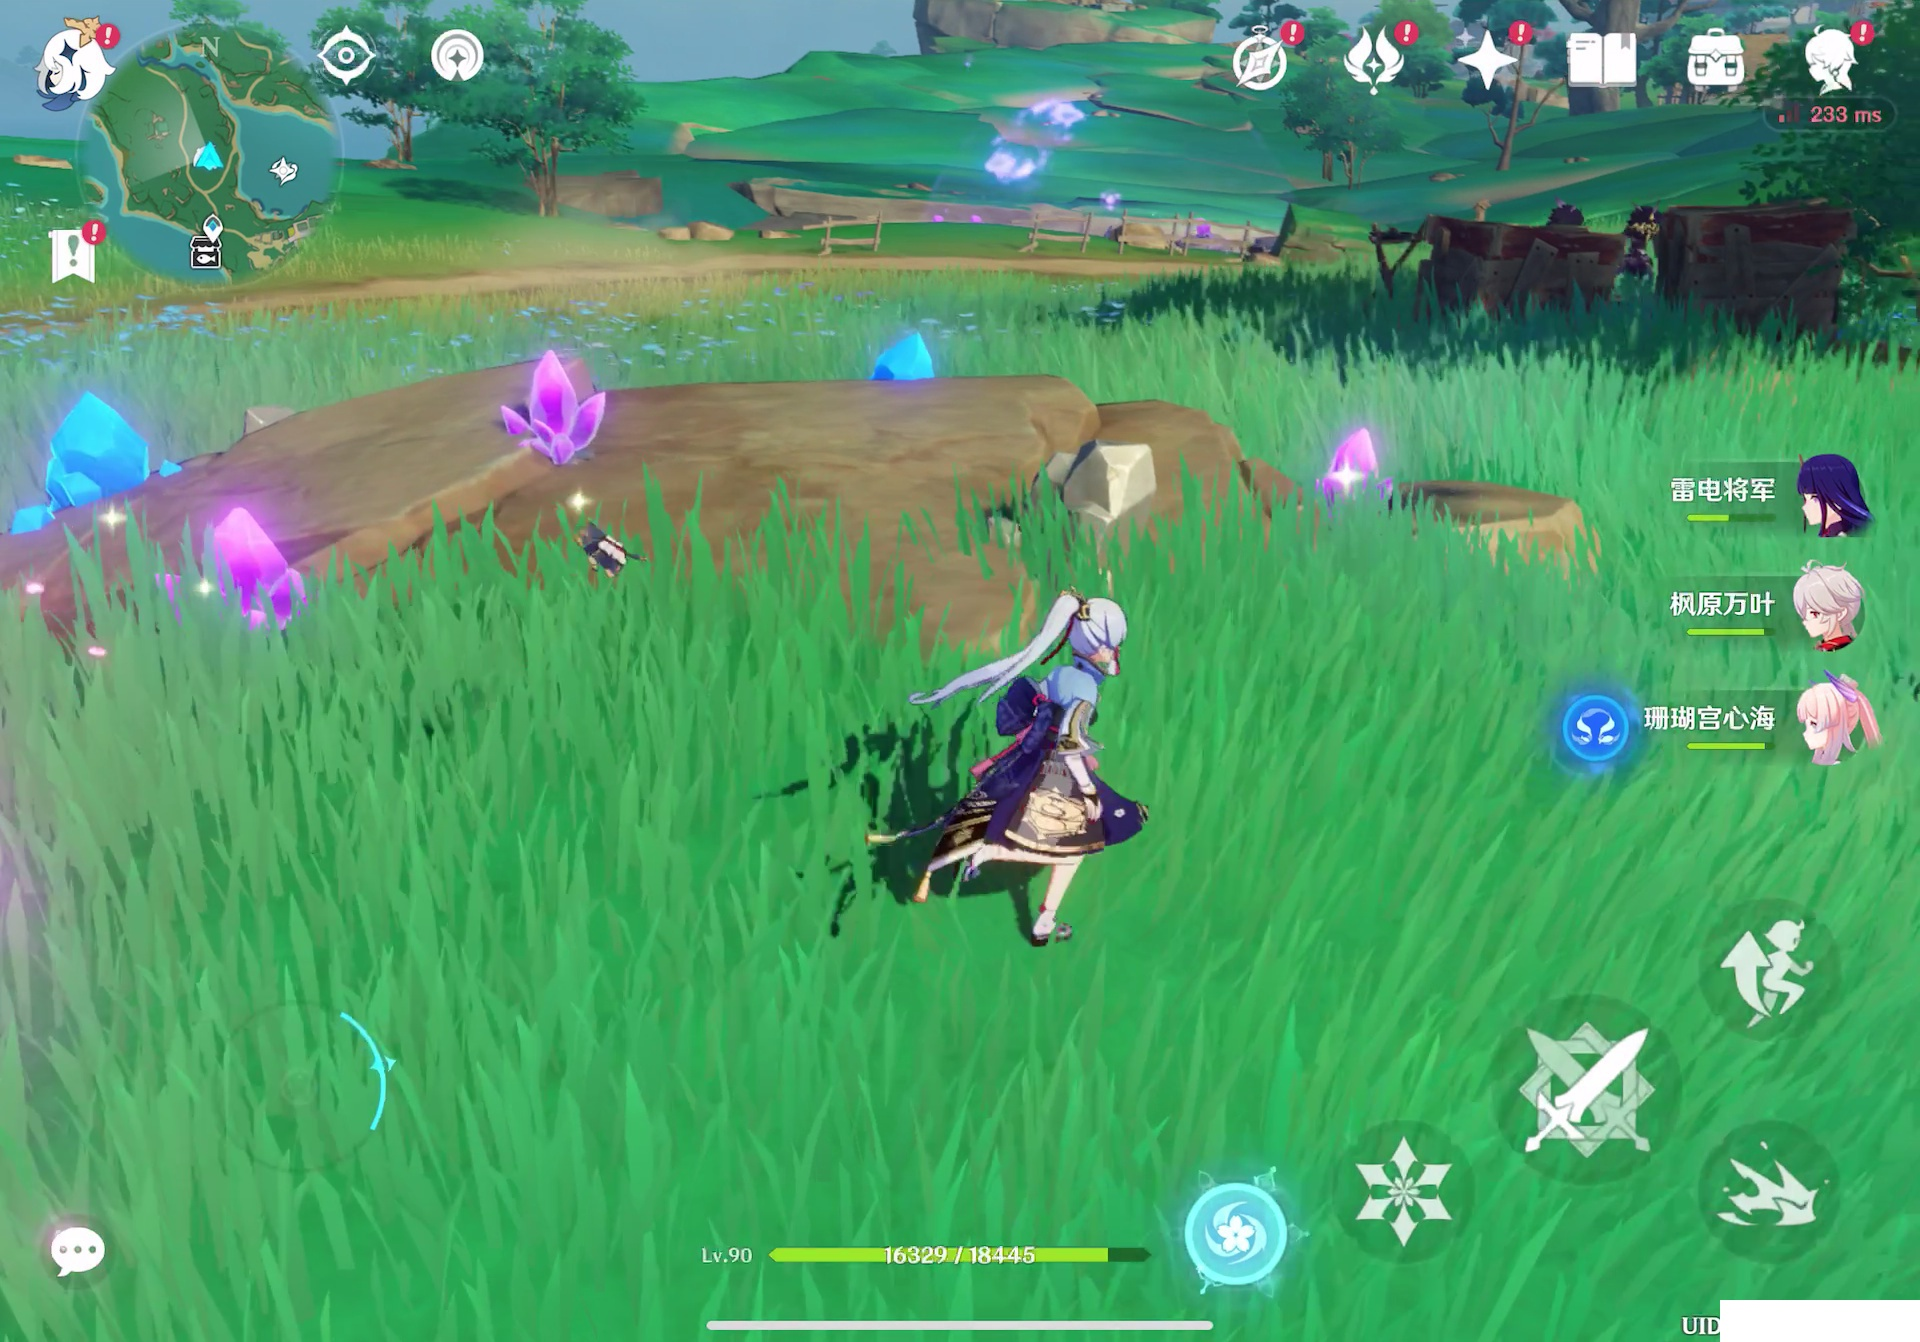白铁矿石: (1018, 441, 1166, 543)
神里绫龟: (906, 582, 1145, 944)
紫矿石: (481, 346, 616, 470), (184, 505, 303, 621), (1336, 424, 1398, 511)
蓝矿石: (4, 391, 184, 535), (861, 319, 948, 392)
